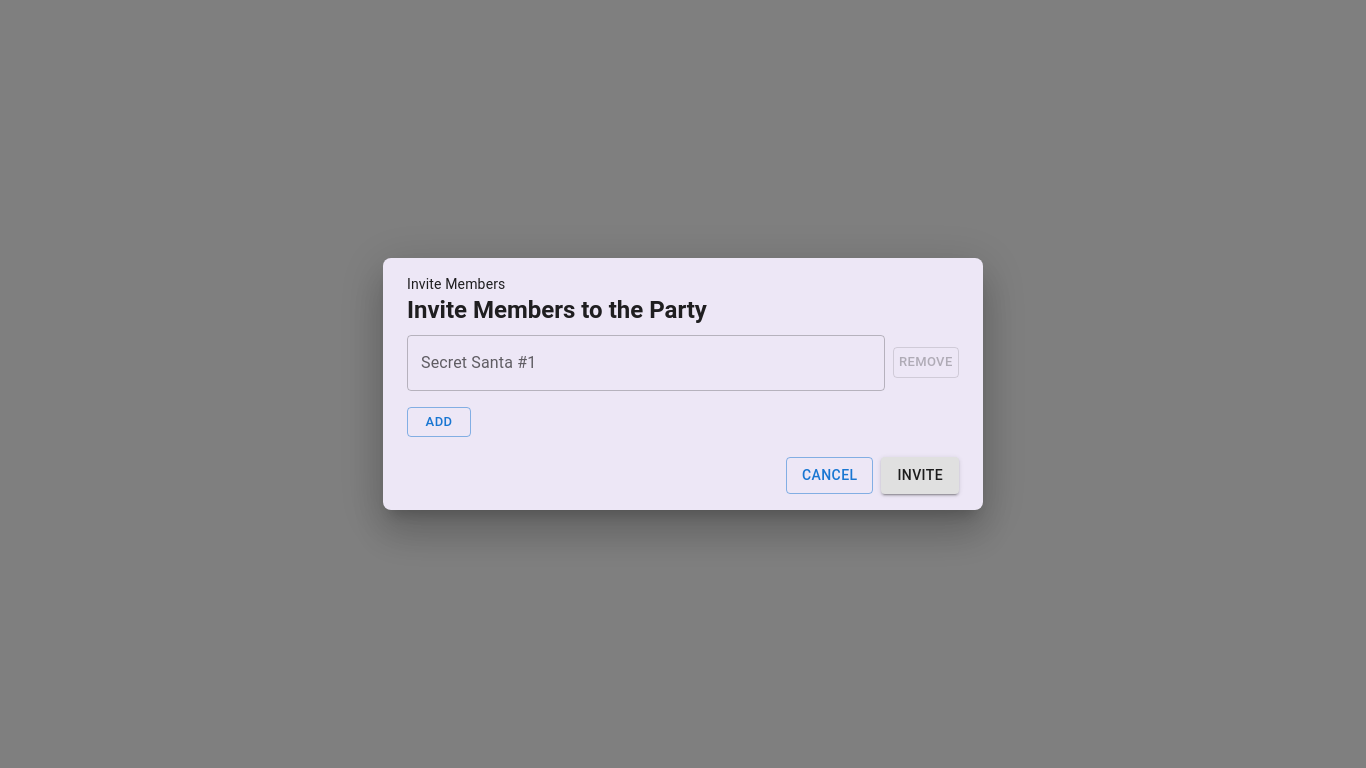
InviteMembers › adds a new field when Add is clicked
What coordinates should you click on to do the following:
click the button "Add"
I would click on:
 (439, 422)
Its box is 407,407 -> 471,437.
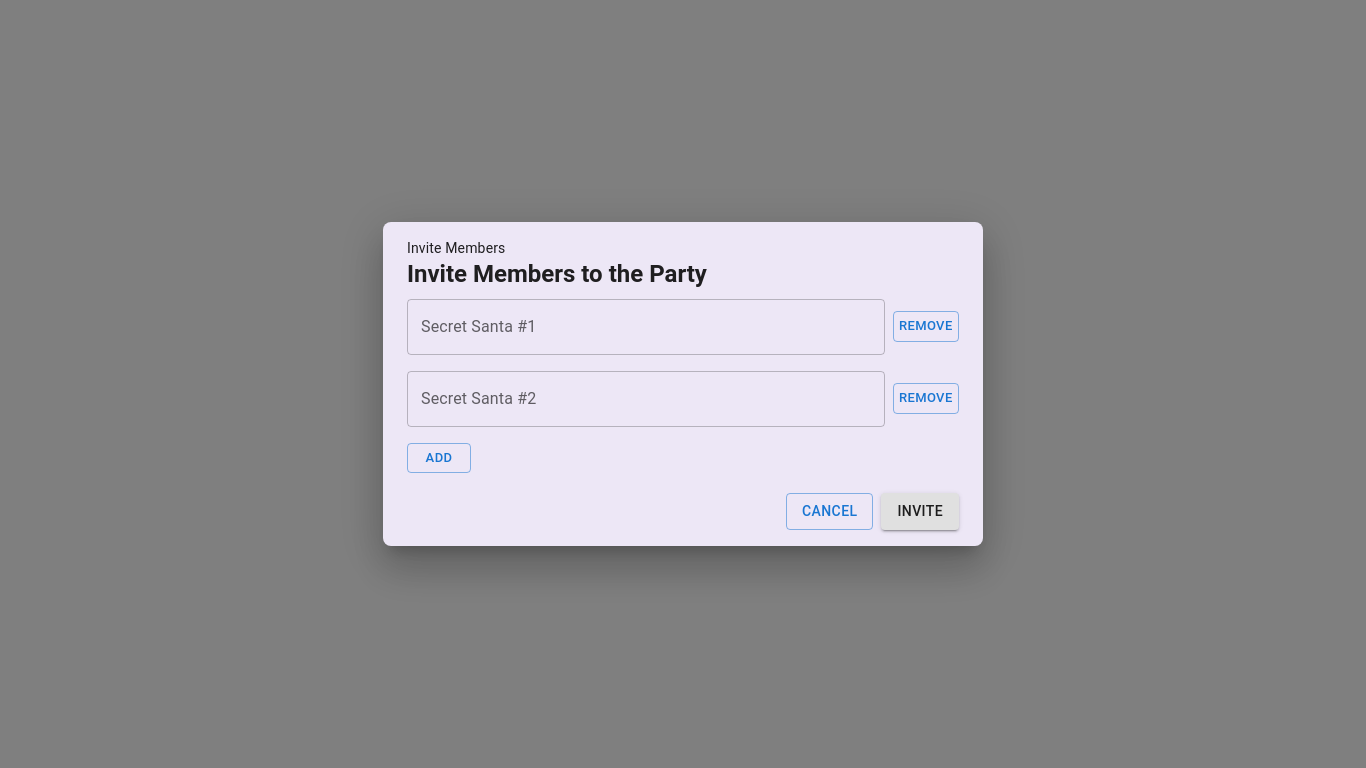
Now the number of fields is 2, box 407,299 -> 884,355; 407,371 -> 884,427
Now the field labelled "Secret Santa #2" is shown, box 407,371 -> 884,427
